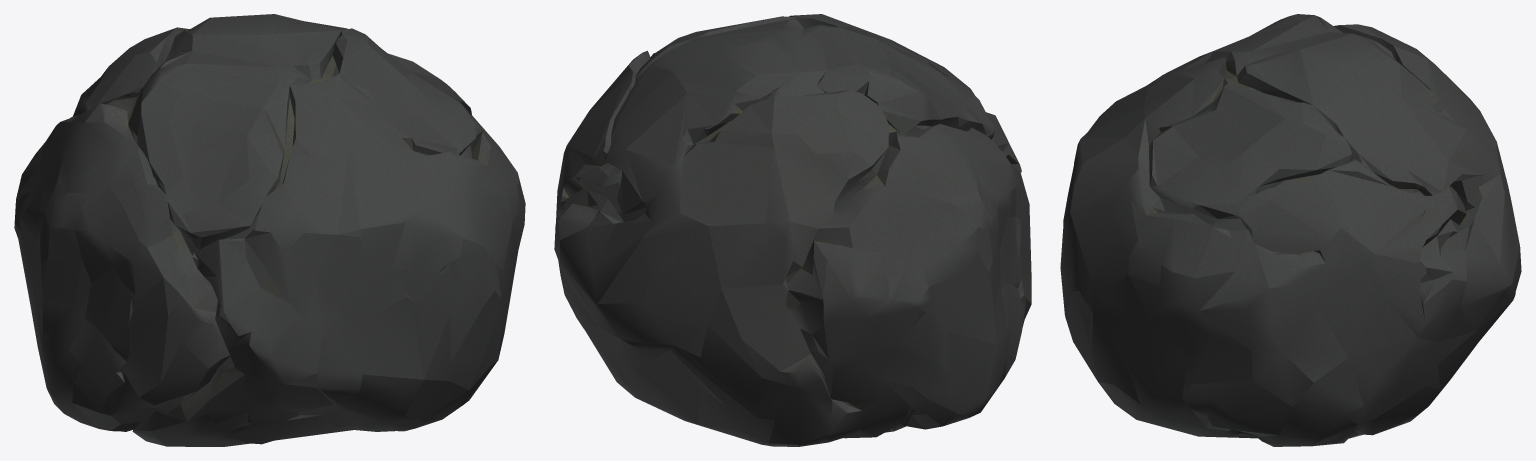
Rendered from boulder.glb.
The picture shows the model from 3 angles, left to right: view 1: azimuth 30°, elevation 25°; view 2: azimuth 150°, elevation 25°; view 3: azimuth 270°, elevation 25°; orthographic projection. The views are drawn at different scales.
Bounding box in the file's own units: 1.9 × 1.45 × 1.83.
Materials: 1 (1 with a texture image).
